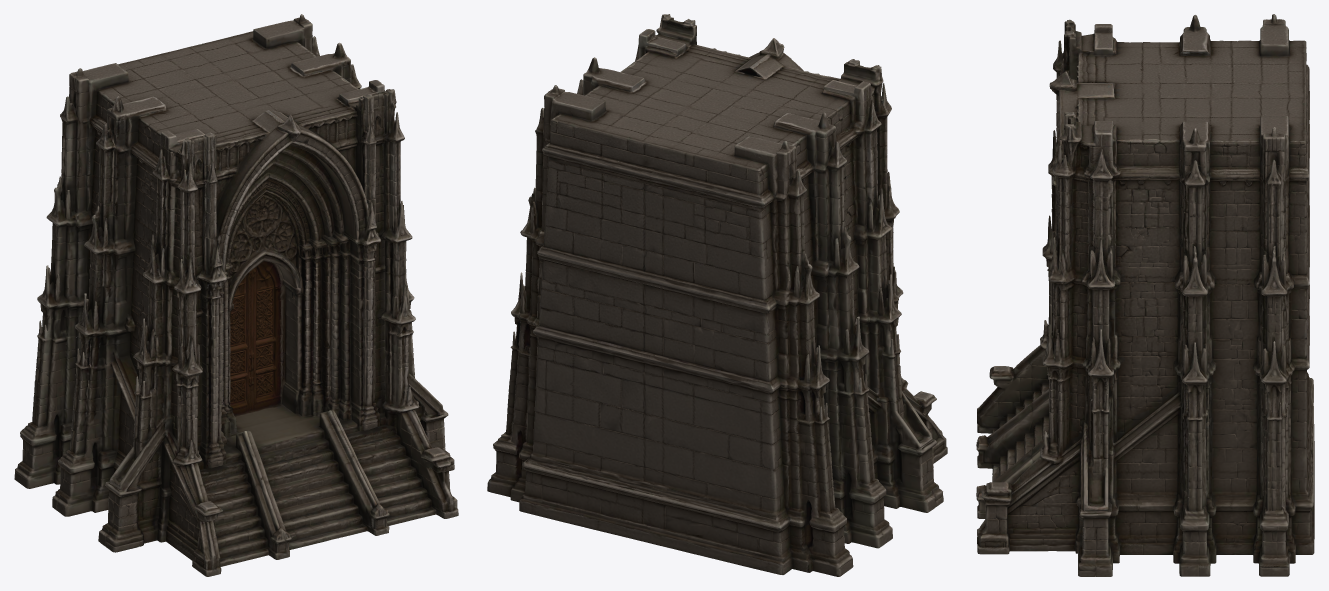
Rendered from gothic_cathedral_doorway.glb.
3 renders of one model, left to right at view 1: azimuth 30°, elevation 25°; view 2: azimuth 150°, elevation 25°; view 3: azimuth 270°, elevation 25°, orthographic. The views are drawn at different scales.
Bounding box in the file's own units: 0.872 × 0.9785 × 0.7154.
1 material, 1 textured.
